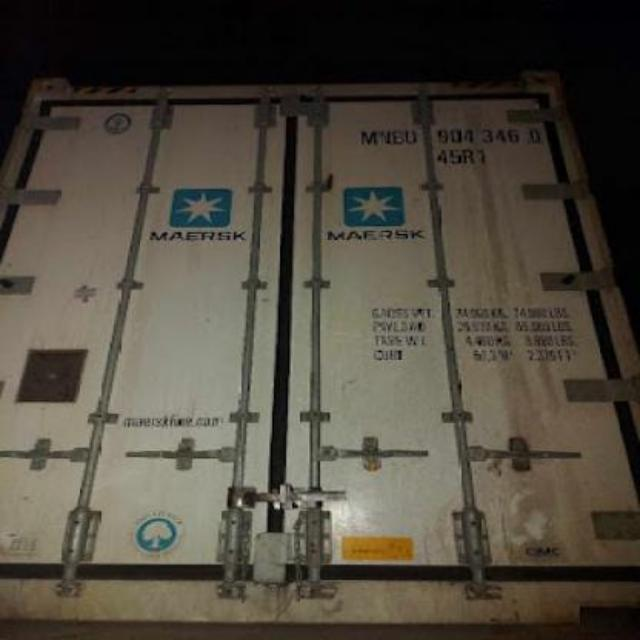0: (528, 124, 546, 146), (451, 122, 464, 148)
3: (478, 122, 494, 148)
4: (462, 122, 478, 148), (494, 121, 506, 151)
6: (508, 120, 522, 152)
9: (432, 122, 450, 144)
B: (392, 121, 404, 153)
M: (356, 124, 376, 148)
N: (376, 120, 392, 150)
U: (404, 121, 420, 153)
